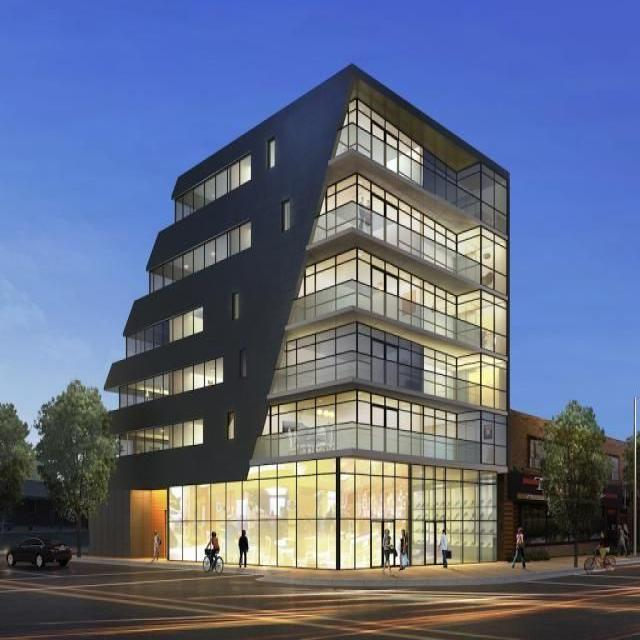House: (84, 62, 510, 564), (509, 408, 632, 558)
